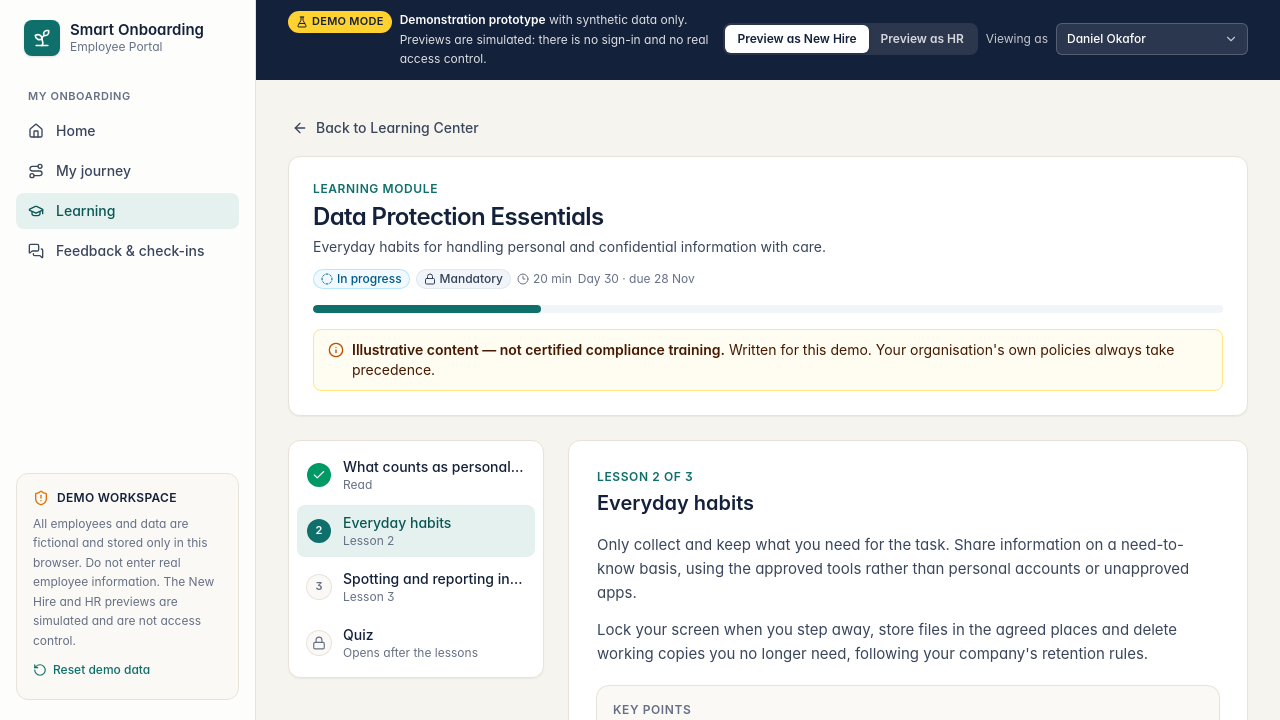
Test: Module viewer › keeps the quiz locked until every lesson has been read
Click the button "Quiz Opens after the lessons" at [416, 642], box [297, 616, 535, 668]
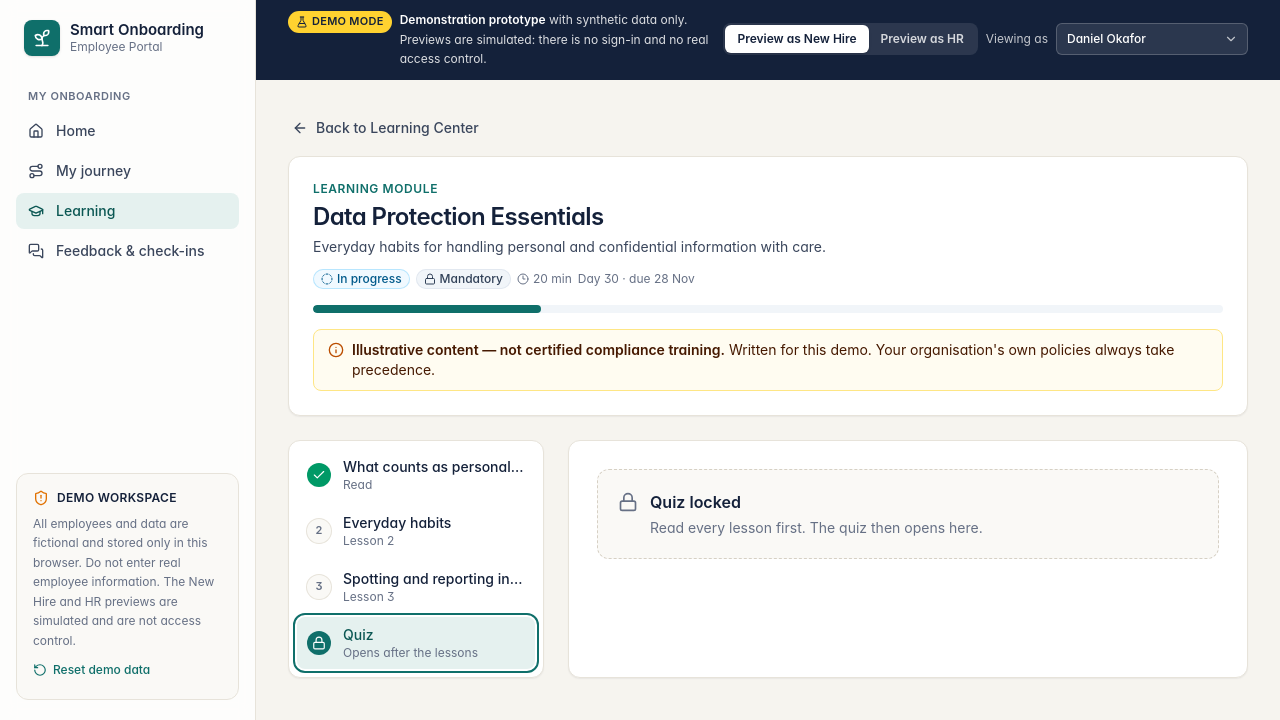
Result: the heading "Quiz locked" is shown at [650, 492, 741, 512]
